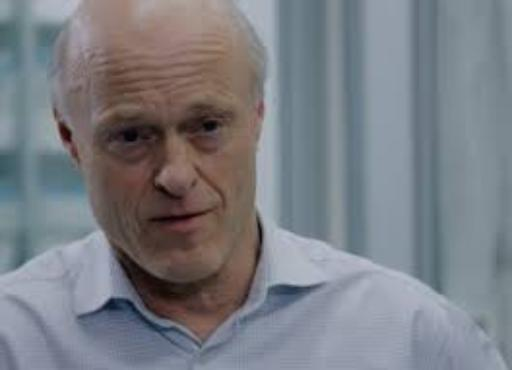left_eye: (191, 120, 229, 138)
left_lip_corner: (201, 205, 220, 222)
right_eye: (108, 129, 156, 148)
right_lip_corner: (144, 214, 163, 230)
